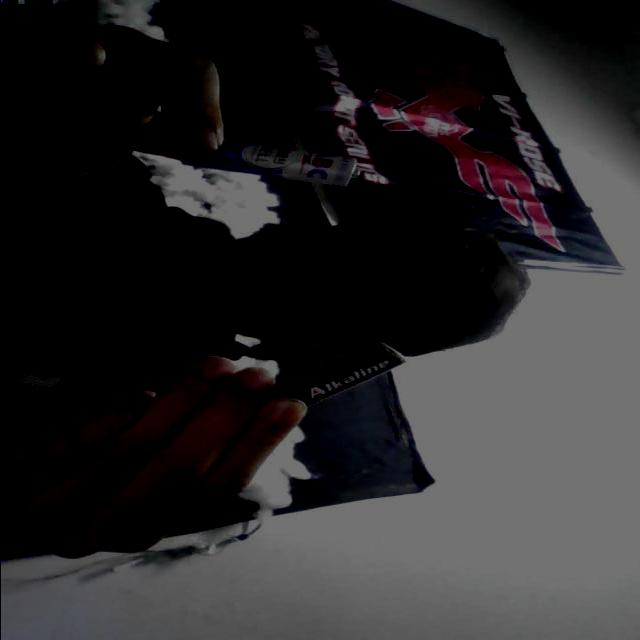AAA: (254, 339, 416, 420), (162, 134, 376, 194)
